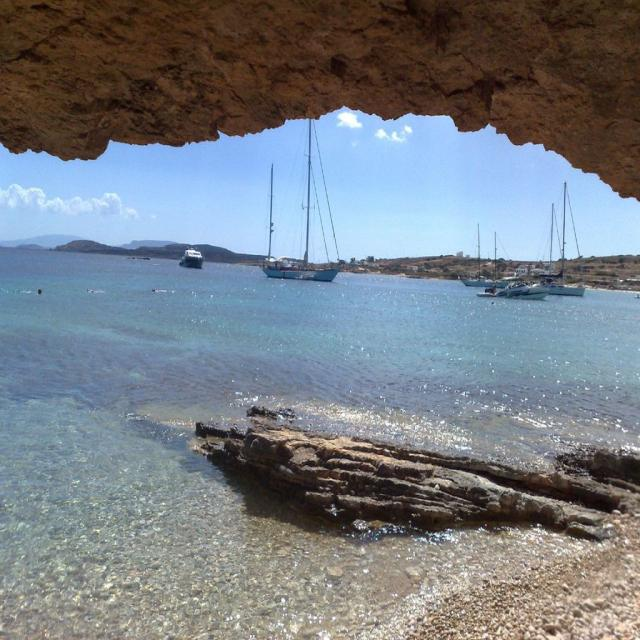Boat: (458, 178, 588, 299), (261, 115, 342, 284), (178, 247, 206, 270)
